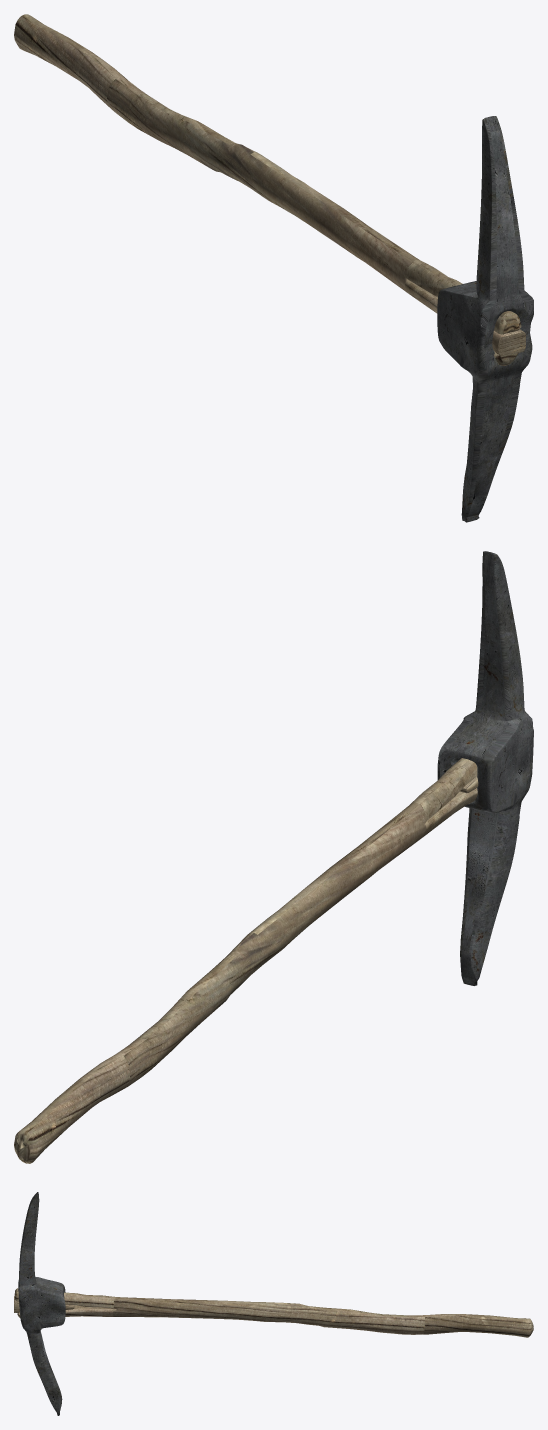
File: pickaxe.fbx
3 views of the same model, one above another, from view 1: azimuth 30°, elevation 25°; view 2: azimuth 150°, elevation 25°; view 3: azimuth 270°, elevation 25° (orthographic). The views are drawn at different scales.
Parts seen in each view (by area): view 1: Pick_Handle, Pick_Head, Pick_Wedge; view 2: Pick_Handle, Pick_Head; view 3: Pick_Handle, Pick_Head.
Part boxes in pixels (left/top/right/bottom): Pick_Handle: left=14, top=14, right=521, bottom=365; Pick_Head: left=437, top=116, right=533, bottom=522; Pick_Wedge: left=492, top=329, right=525, bottom=357; Pick_Handle: left=14, top=758, right=477, bottom=1163; Pick_Head: left=437, top=551, right=533, bottom=985; Pick_Handle: left=14, top=1288, right=533, bottom=1337; Pick_Head: left=18, top=1192, right=65, bottom=1415.
Size of the model in its own units: 30.54 by 226 by 481.
Materials: 2 (2 with a texture image).
